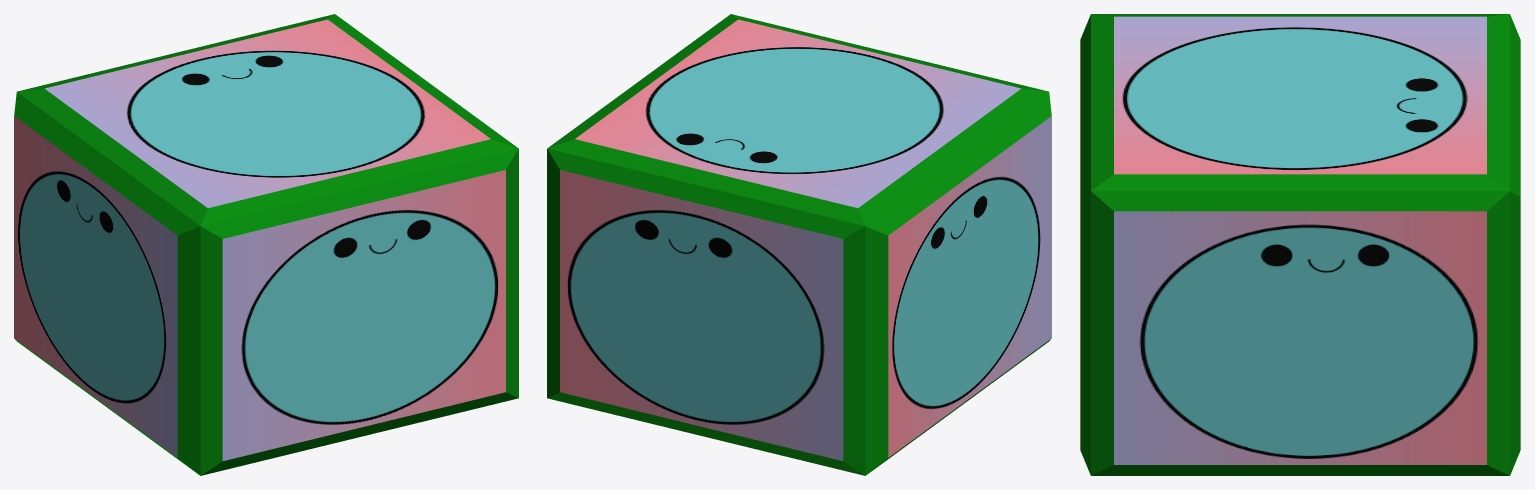
File: Fracciones seis sextos.fbx
3 views of the same model, side by side, from view 1: azimuth 30°, elevation 25°; view 2: azimuth 150°, elevation 25°; view 3: azimuth 270°, elevation 25° (orthographic). The views are drawn at different scales.
Visible parts, largest first — view 1: 6/6; view 2: 6/6; view 3: 6/6.
Part boxes in pixels (<box>): 6/6: <box>14,14,518,475</box>; 6/6: <box>547,14,1051,475</box>; 6/6: <box>1080,14,1520,475</box>.
Size of the model in its own units: 213 by 158 by 210.
Materials: 2 (1 with a texture image).
